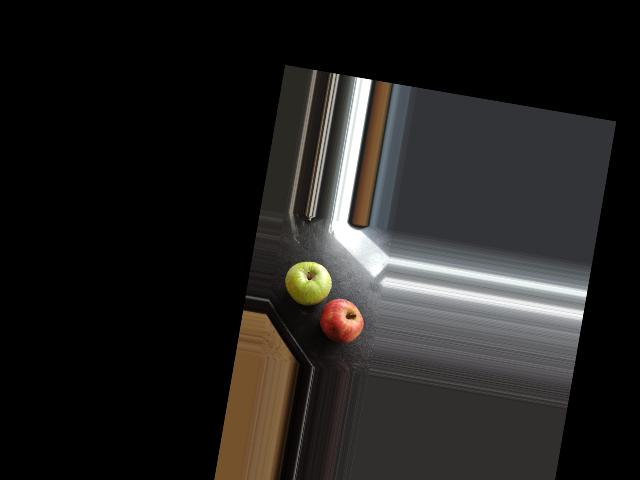apple: (318, 294, 369, 348)
